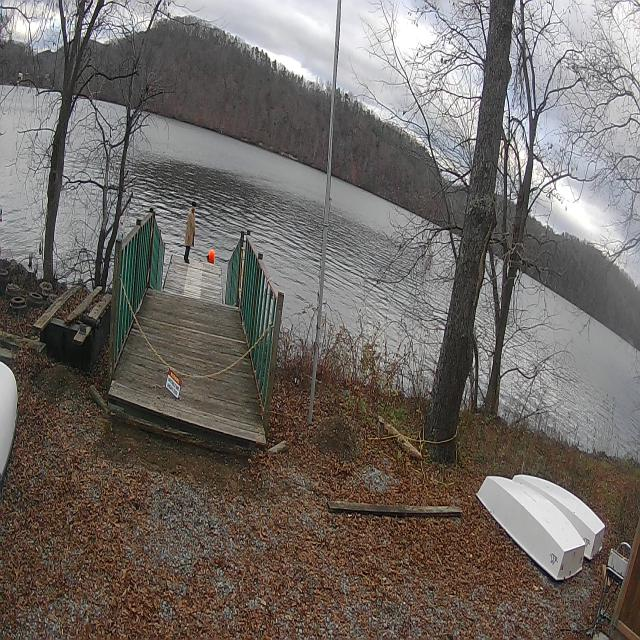Buoy: (207, 248, 216, 264)
